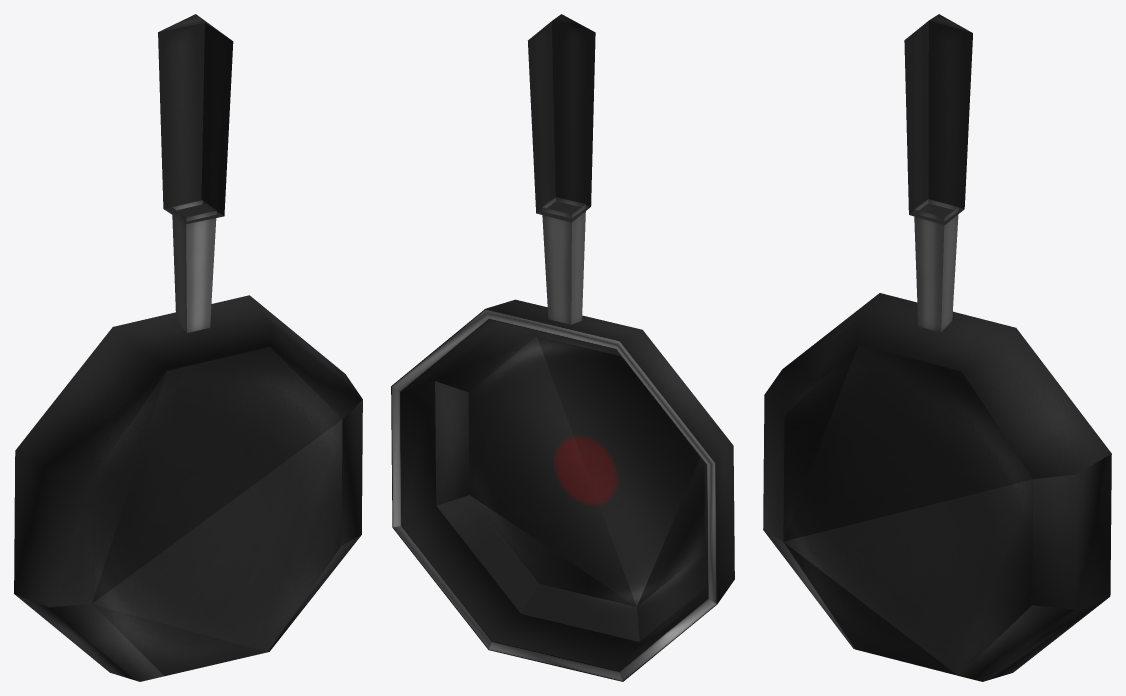
File: Pan.FBX
3 renders of one model, left to right at view 1: azimuth 30°, elevation 25°; view 2: azimuth 150°, elevation 25°; view 3: azimuth 330°, elevation 25°, orthographic.
Parts seen in each view (by area): view 1: default; view 2: default; view 3: default.
Part boxes in pixels (bbox=[...]): default: bbox=[14, 14, 362, 681]; default: bbox=[391, 14, 734, 681]; default: bbox=[763, 14, 1111, 681].
Bounding box in the file's own units: 30.51 × 57.33 × 6.42.
